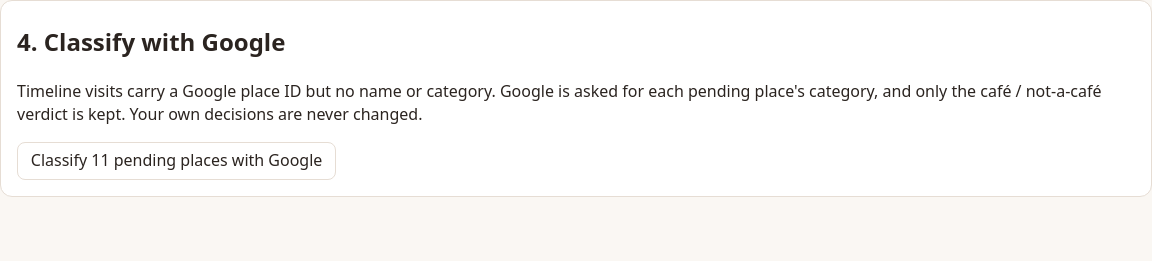
Test: GoogleClassify › reports progress per batch
What coordinates should you click on to do the following:
click the button "Classify 11 pending places with Google"
I would click on:
 (177, 161)
Its box is 17,142 -> 336,180.
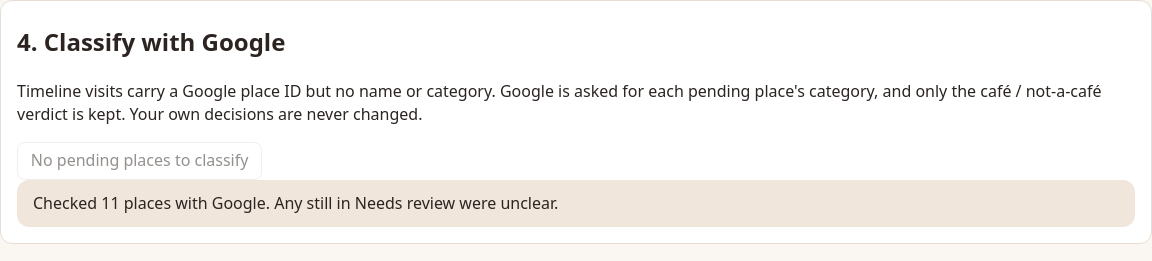
Expected: the message shows "Checked 11 places with Google.", 33,192 -> 558,214
